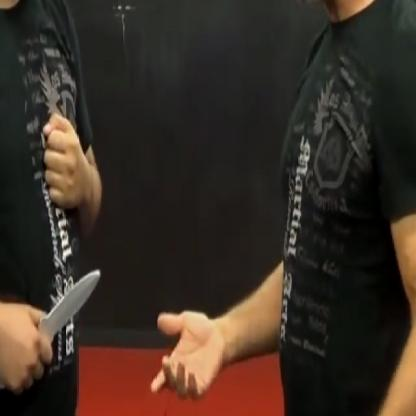knife: (0, 259, 104, 401)
